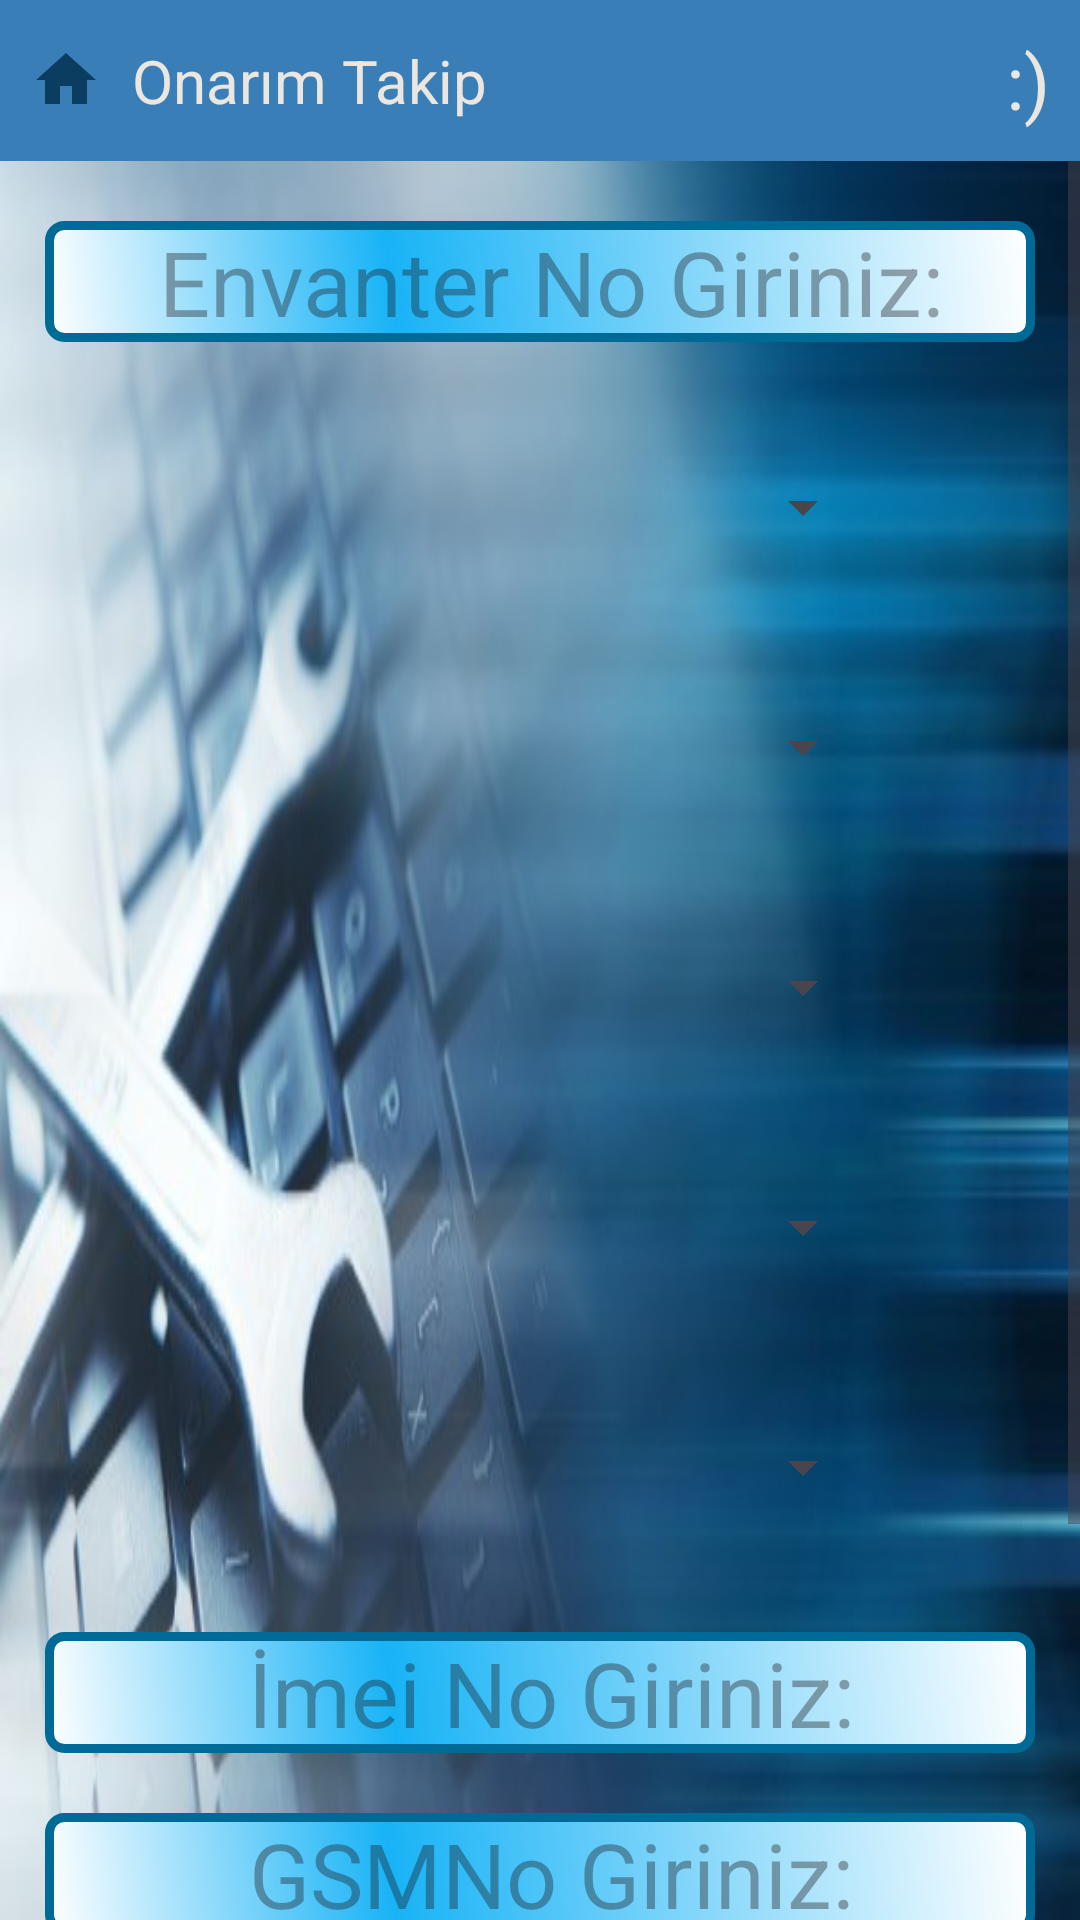

Icons on this 1080w x 1920h Android screen, each with its box as (x1, y1, x2, y2):
home: (36, 53, 96, 104)
